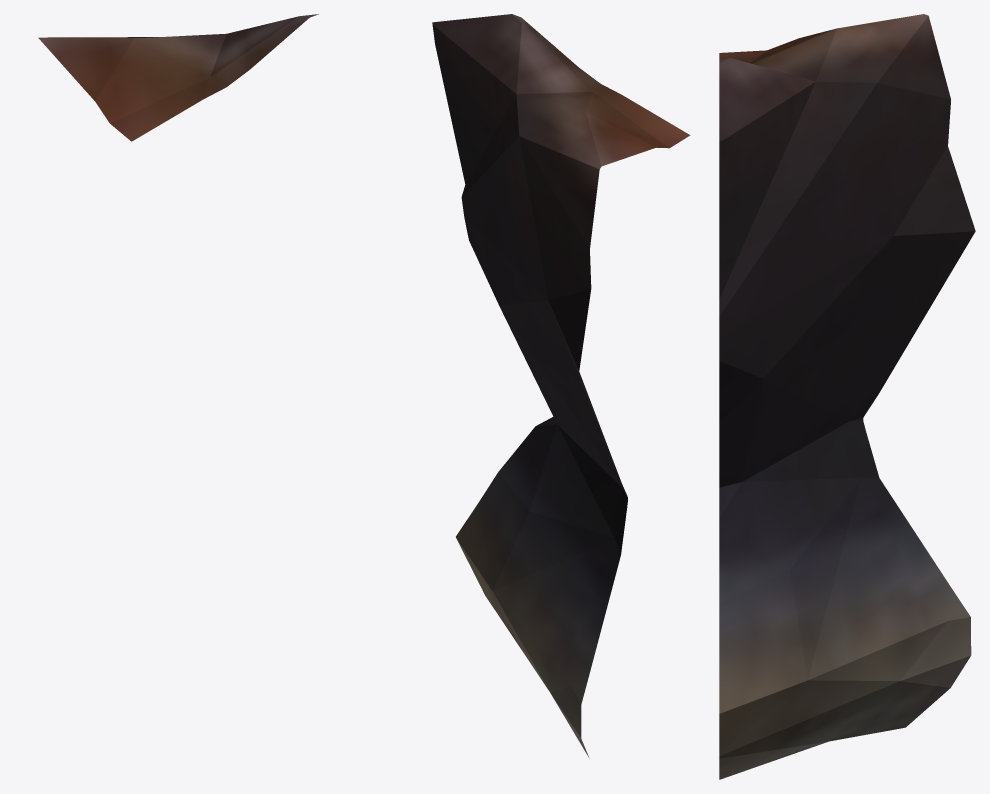
The picture shows the model from 3 angles, left to right: view 1: azimuth 30°, elevation 25°; view 2: azimuth 150°, elevation 25°; view 3: azimuth 270°, elevation 25°; orthographic projection. The views are drawn at different scales.
Bounding box in the file's own units: 0.0815 × 0.2071 × 0.0609.
1 material, 1 textured.
